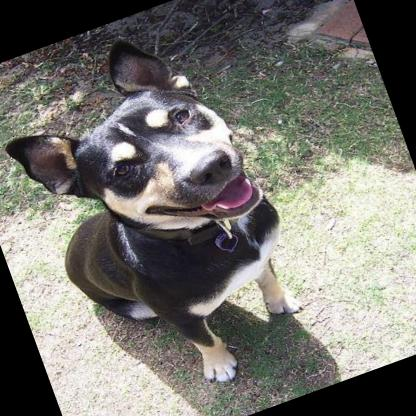kelpie: (0, 1, 329, 416)
